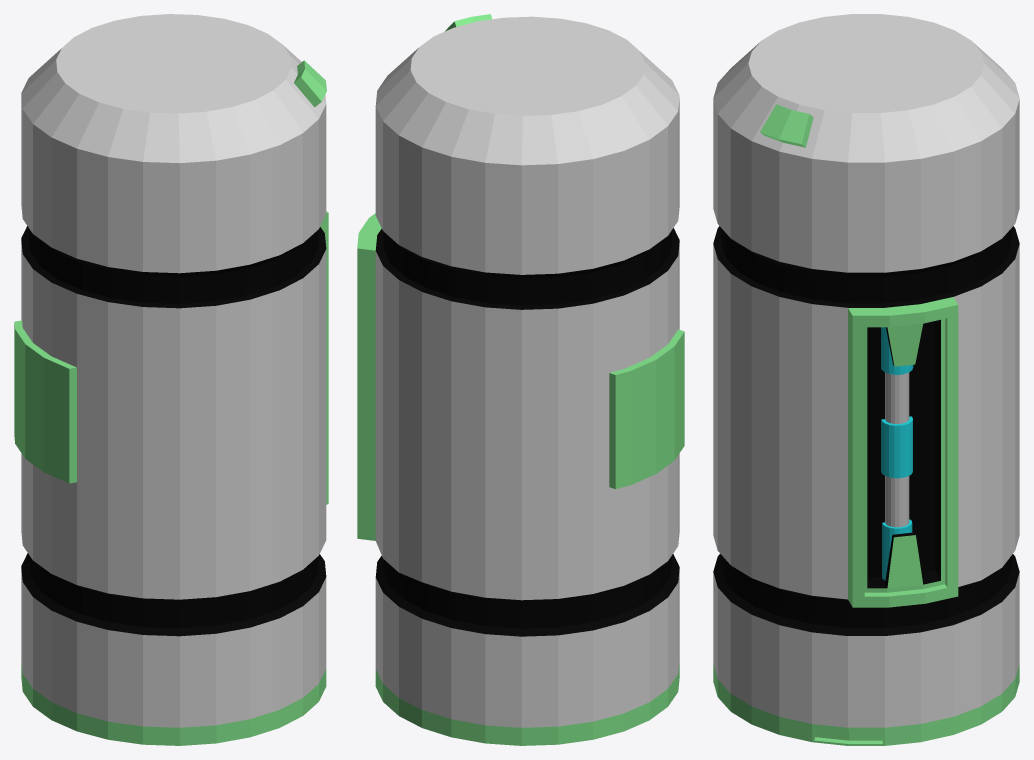
The model's file is tanqueOxigenomini.fbx.
3 views of the same model, side by side, from view 1: azimuth 30°, elevation 25°; view 2: azimuth 150°, elevation 25°; view 3: azimuth 270°, elevation 25° (orthographic).
Visible parts, largest first — view 1: Cylinder.001; view 2: Cylinder.001; view 3: Cylinder.001.
Boxes of the visible parts, box(x1,y1,x2,y2) form: Cylinder.001: box(14, 14, 328, 745); Cylinder.001: box(357, 14, 684, 745); Cylinder.001: box(713, 14, 1019, 745).
Bounding box in the file's own units: 30.17 × 62.14 × 27.92.
